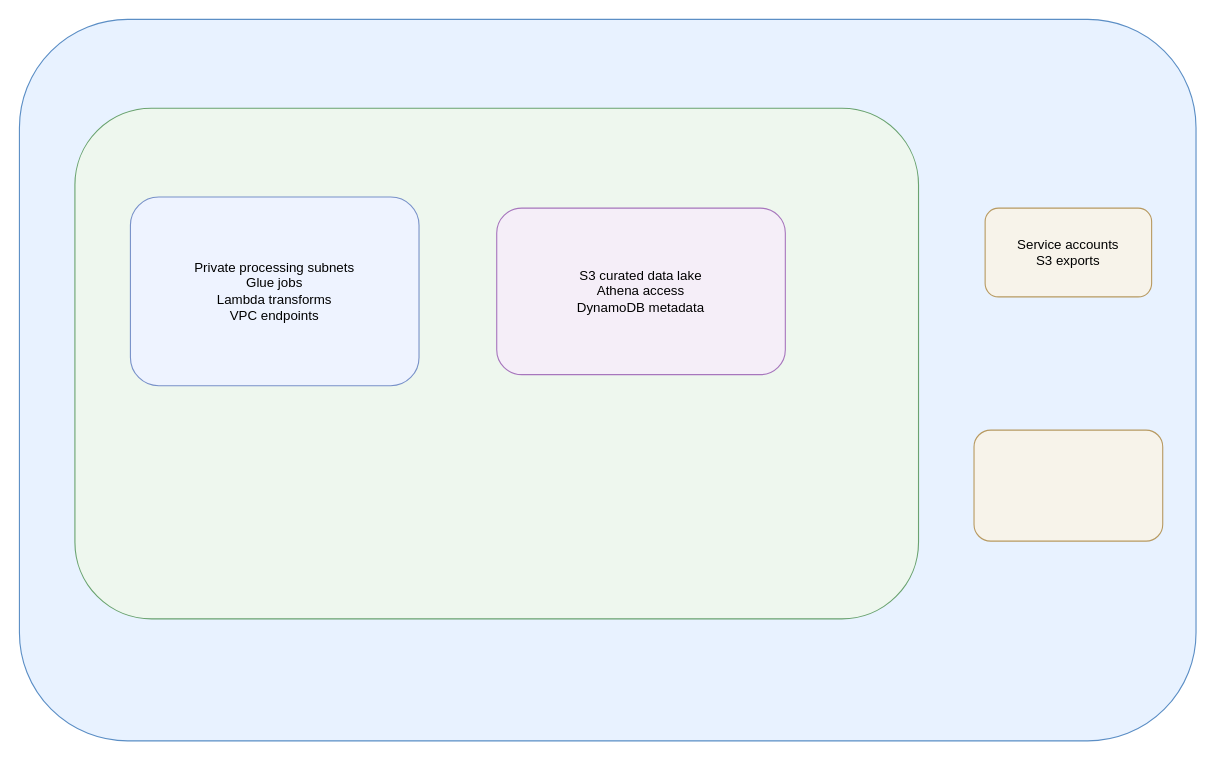
Image size: 1215x760. Some labels were removed from this diagram. Each missing label, with the box of its shape:
Approved analysts Read-only data products: (973, 429, 1163, 541)
VPC: vpc-data-analysis-prod Region: ap-northeast-1: (74, 107, 919, 619)
